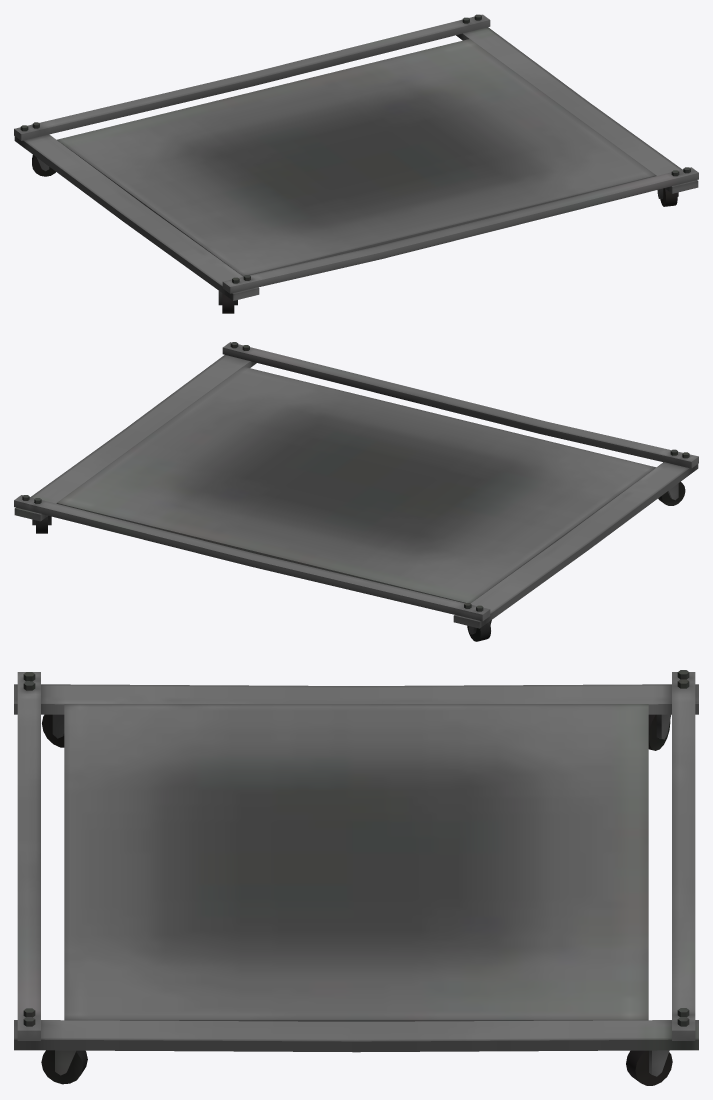
3 views of the same model, one above another, from view 1: azimuth 30°, elevation 25°; view 2: azimuth 150°, elevation 25°; view 3: azimuth 270°, elevation 25° (orthographic). The views are drawn at different scales.
Parts seen in each view (by area): view 1: body0_model0_lod0_mesh0; view 2: body0_model0_lod0_mesh0; view 3: body0_model0_lod0_mesh0.
Part boxes in pixels (x1=…): body0_model0_lod0_mesh0: x1=14, y1=14, x2=698, y2=313; body0_model0_lod0_mesh0: x1=14, y1=342, x2=698, y2=641; body0_model0_lod0_mesh0: x1=14, y1=670, x2=698, y2=1085.
Size of the model in its own units: 145 by 12.67 by 117.
1 material, 1 textured.
